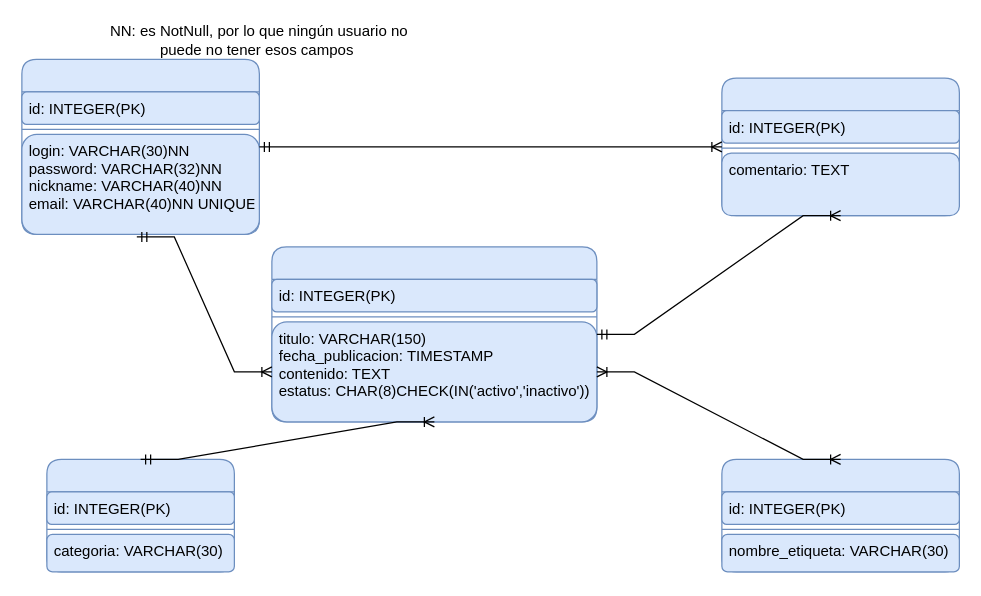
Image size: 981x596. Some labels were removed from this diagram. The box of each missing label's shape, as (x1, y1, x2, y2) in pixels:
Categorias: (46, 458, 234, 572)
Comentarios: (721, 77, 959, 216)
Etiquetas: (721, 458, 959, 572)
Posts: (271, 246, 597, 422)
Usuarios: (21, 58, 259, 234)
